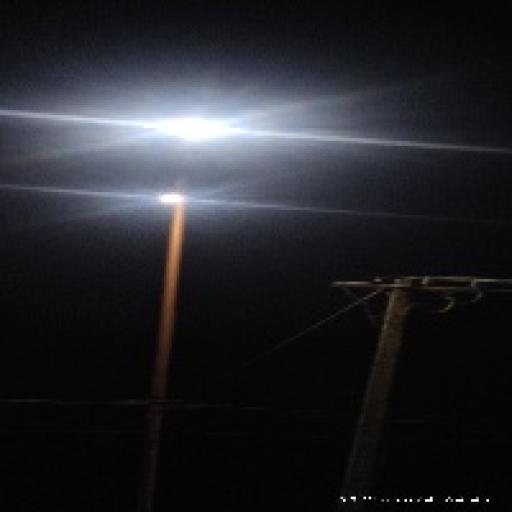Working: (134, 105, 242, 154), (148, 186, 195, 208)
